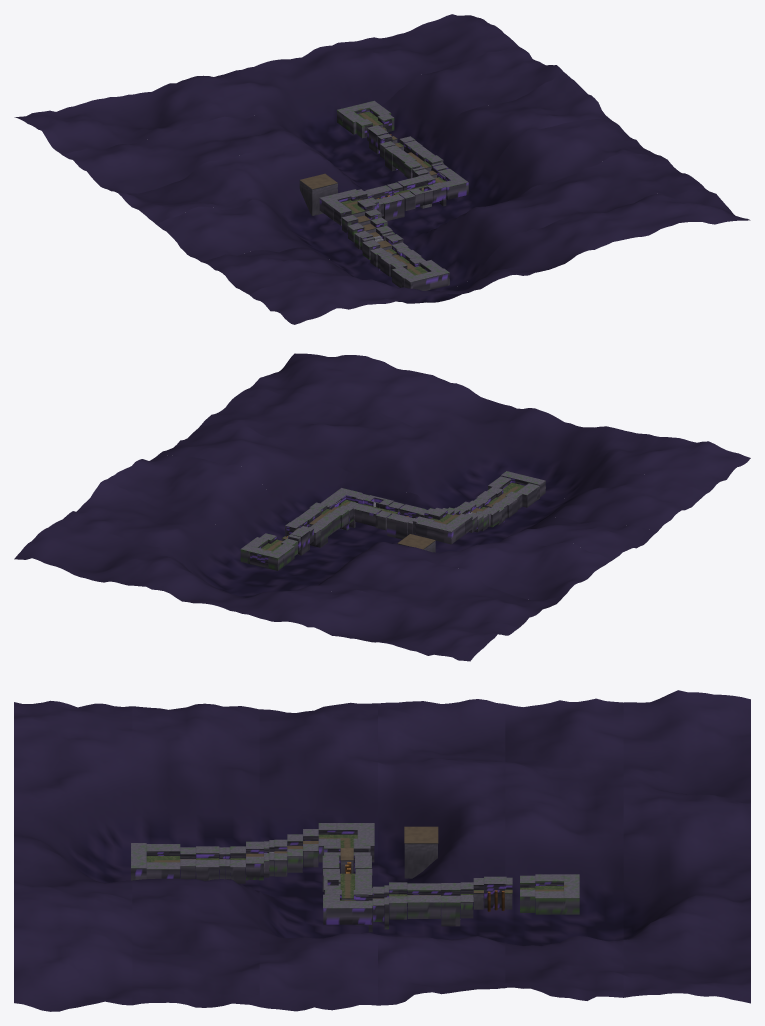
Rendered from pumpkin_patch_terrain.glb.
3 renders of one model, top to bottom at view 1: azimuth 30°, elevation 25°; view 2: azimuth 150°, elevation 25°; view 3: azimuth 270°, elevation 25°, orthographic. The views are drawn at different scales.
Parts seen in each view (by area): view 1: backdrop_5, backdrop_4, backdrop_3, backdrop_2, backdrop_1, backdrop_0, terrain_D, terrain_E, terrain_G, terrain_A, terrain_H, terrain_B (+4 smaller); view 2: backdrop_0, backdrop_1, backdrop_5, backdrop_3, backdrop_4, backdrop_2, terrain_E, terrain_J, terrain_H, terrain_A, terrain_D, terrain_B (+4 smaller); view 3: backdrop_5, backdrop_0, backdrop_1, backdrop_4, backdrop_3, backdrop_2, terrain_D, terrain_G, terrain_H, terrain_E, terrain_B, terrain_I (+4 smaller).
Part boxes in pixels (<box>): backdrop_5: <box>14,14,518,155</box>; backdrop_4: <box>63,46,563,193</box>; backdrop_3: <box>108,72,611,231</box>; backdrop_2: <box>156,119,656,266</box>; backdrop_1: <box>201,153,705,294</box>; backdrop_0: <box>250,188,750,324</box>; terrain_D: <box>299,173,387,242</box>; terrain_E: <box>319,182,415,220</box>; terrain_G: <box>404,155,468,199</box>; terrain_A: <box>392,260,449,290</box>; terrain_H: <box>379,136,434,173</box>; terrain_B: <box>370,242,425,276</box>; backdrop_0: <box>250,353,750,499</box>; backdrop_1: <box>201,388,705,536</box>; backdrop_5: <box>14,519,518,661</box>; backdrop_3: <box>108,455,611,600</box>; backdrop_4: <box>63,479,563,628</box>; backdrop_2: <box>156,423,656,560</box>; terrain_E: <box>375,501,465,544</box>; terrain_J: <box>240,537,294,570</box>; terrain_H: <box>285,508,340,547</box>; terrain_A: <box>488,471,545,507</box>; terrain_D: <box>397,507,483,552</box>; terrain_B: <box>469,487,522,525</box>; backdrop_5: <box>623,690,750,1003</box>; backdrop_0: <box>14,700,132,1011</box>; backdrop_1: <box>132,703,259,1007</box>; backdrop_4: <box>505,698,623,1000</box>; backdrop_3: <box>378,699,505,1005</box>; backdrop_2: <box>259,702,377,1011</box>; terrain_D: <box>287,823,438,878</box>; terrain_G: <box>323,882,407,932</box>; terrain_H: <box>407,882,473,926</box>; terrain_E: <box>322,823,374,891</box>; terrain_B: <box>180,846,245,883</box>; terrain_I: <box>473,875,535,912</box>.
Size of the model in its own units: 532 by 63.54 by 567.
